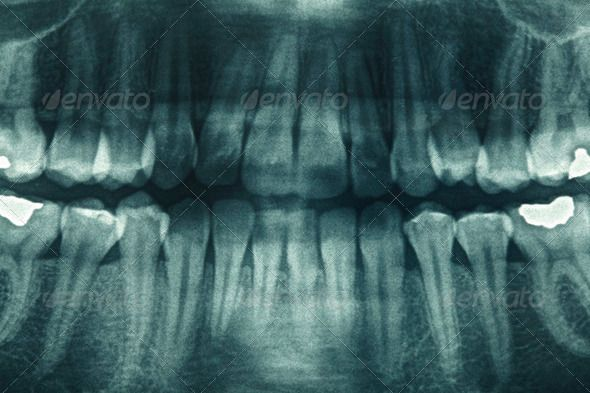canine: (383, 13, 449, 197), (352, 189, 410, 380), (140, 21, 203, 189), (156, 194, 213, 360)
incisor: (189, 33, 260, 192), (238, 26, 301, 201), (293, 29, 348, 198), (340, 34, 395, 197), (207, 193, 257, 343), (313, 199, 361, 349), (280, 199, 322, 350), (246, 193, 287, 336)
premolar: (39, 191, 131, 372), (397, 192, 475, 383), (448, 199, 523, 378), (40, 16, 116, 189), (471, 6, 537, 198), (91, 19, 157, 189), (421, 8, 483, 188), (113, 181, 171, 372)
